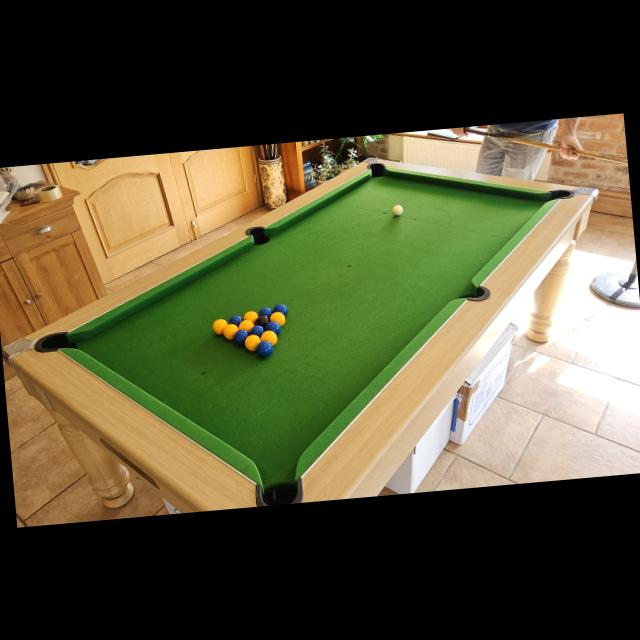Ball: (255, 339, 272, 357), (260, 329, 278, 346), (269, 310, 286, 327), (233, 328, 249, 346), (222, 322, 238, 340), (244, 333, 260, 351), (212, 318, 228, 335), (266, 320, 282, 336), (272, 302, 288, 318), (227, 314, 243, 329), (249, 324, 265, 339), (257, 306, 273, 321), (238, 319, 254, 334), (253, 315, 270, 329), (243, 310, 258, 324), (392, 204, 404, 216)
